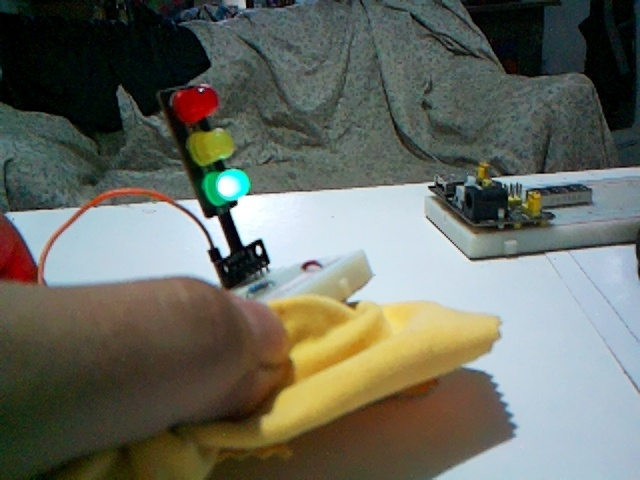traffic_light_green: (167, 84, 251, 213)
